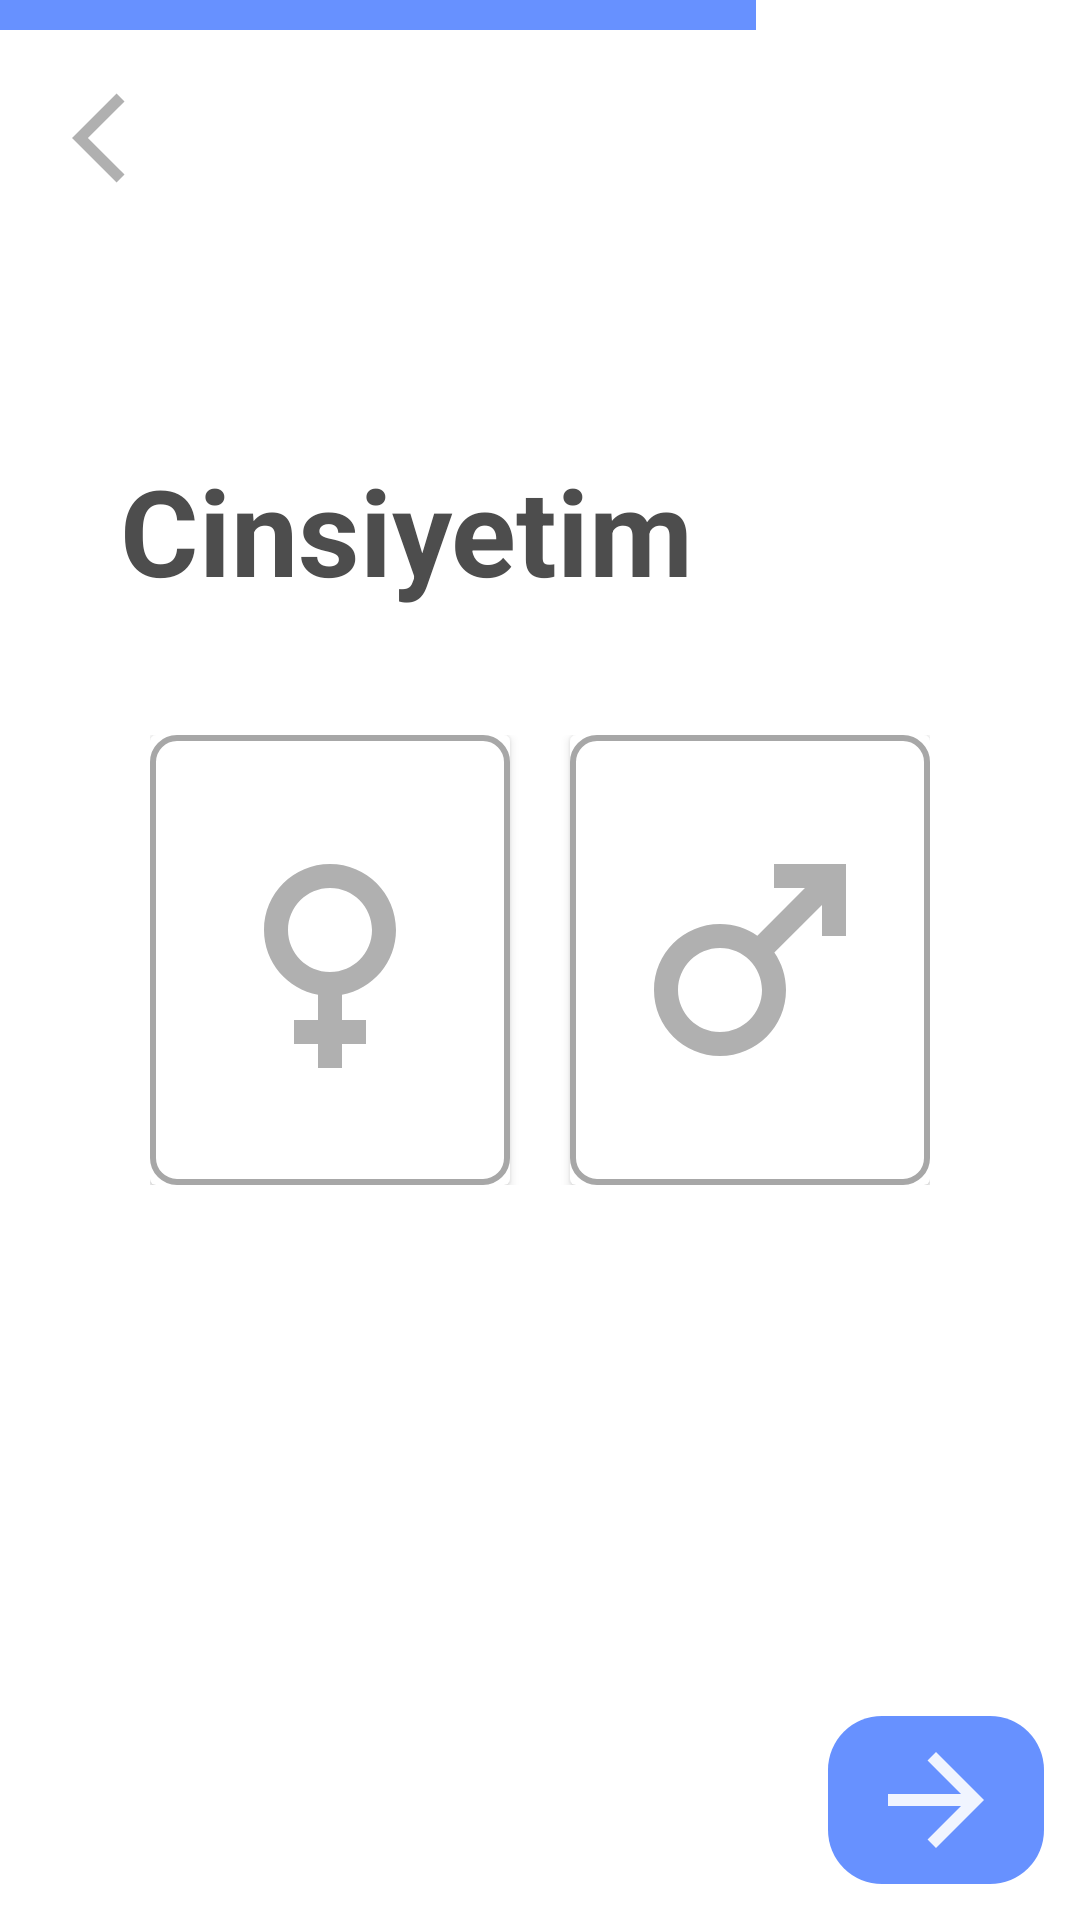

Screen size 1080 × 1920. Icon name, then its center in pixels as (x=x, y=y):
arrow back: (x=98, y=138)
arrow forward: (x=936, y=1800)
